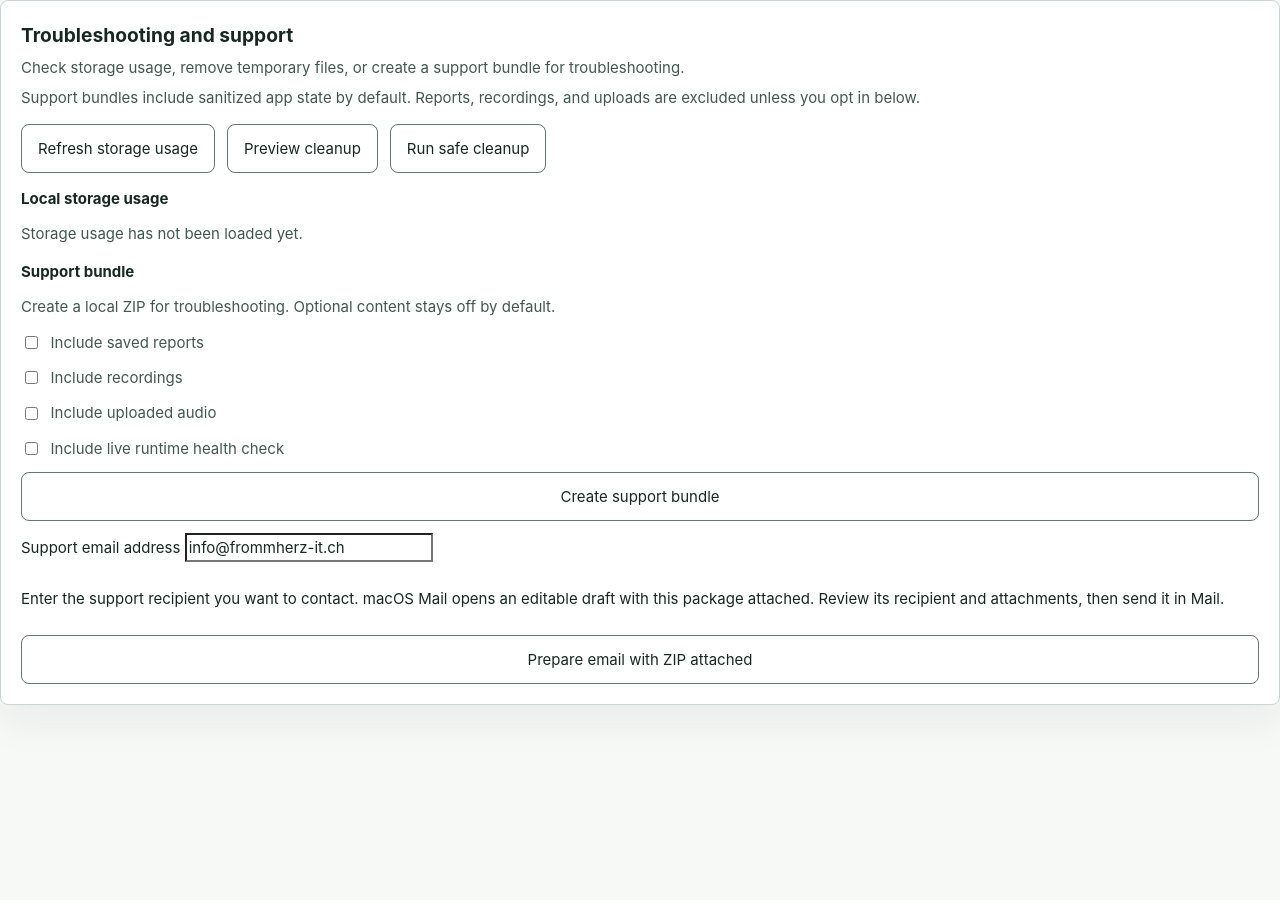
Scenario: uses the native save dialog, preserves a cancelled package, and retries without regenerating
Click the button with test id "settings.support_create_bundle".
click(640, 497)  # box [21,472,1259,521]
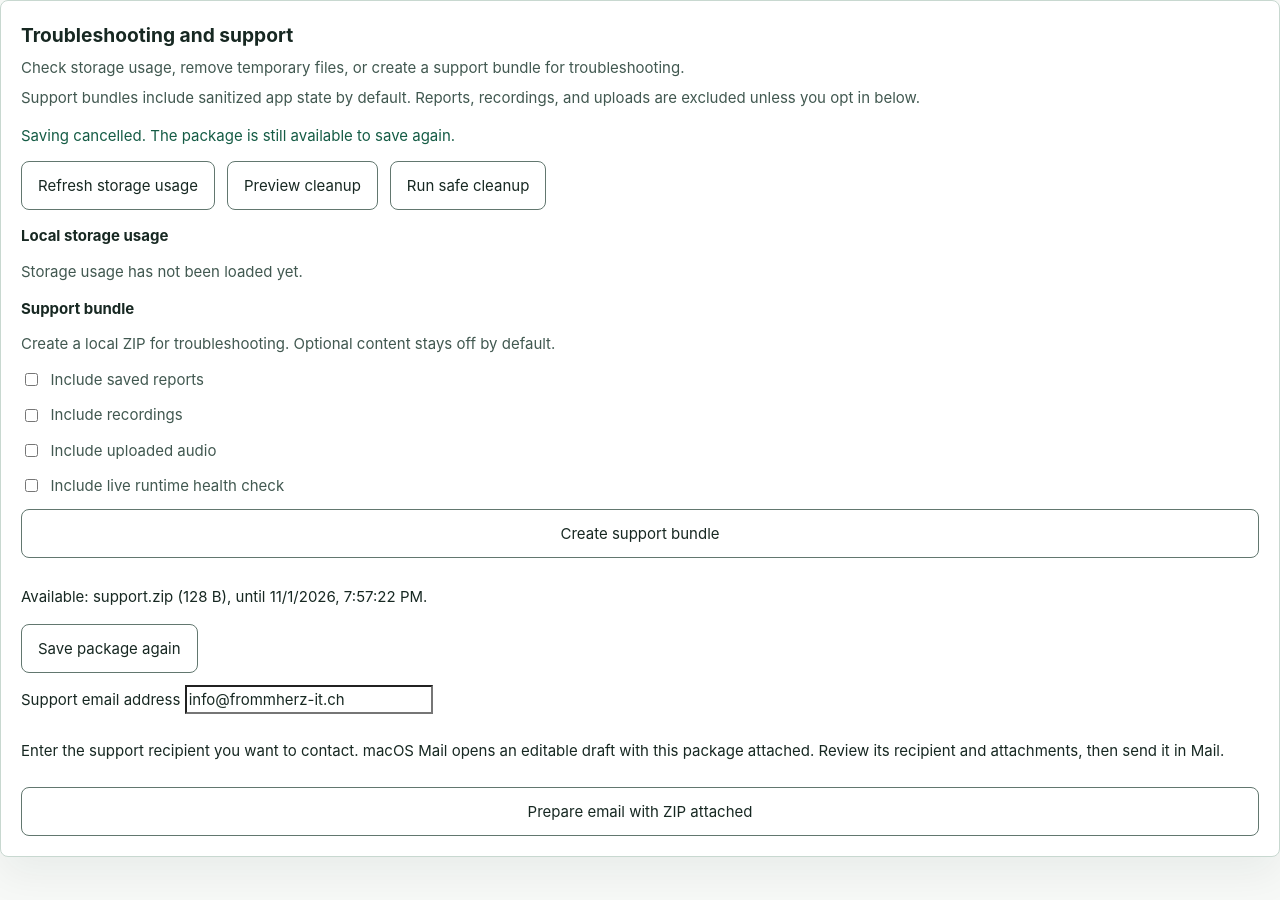
Expected: the text "Saving cancelled. The package is still available to save again." is shown, [21,126,455,145]
Click the button "Save package again".
click(109, 648)  # box [21,624,198,673]
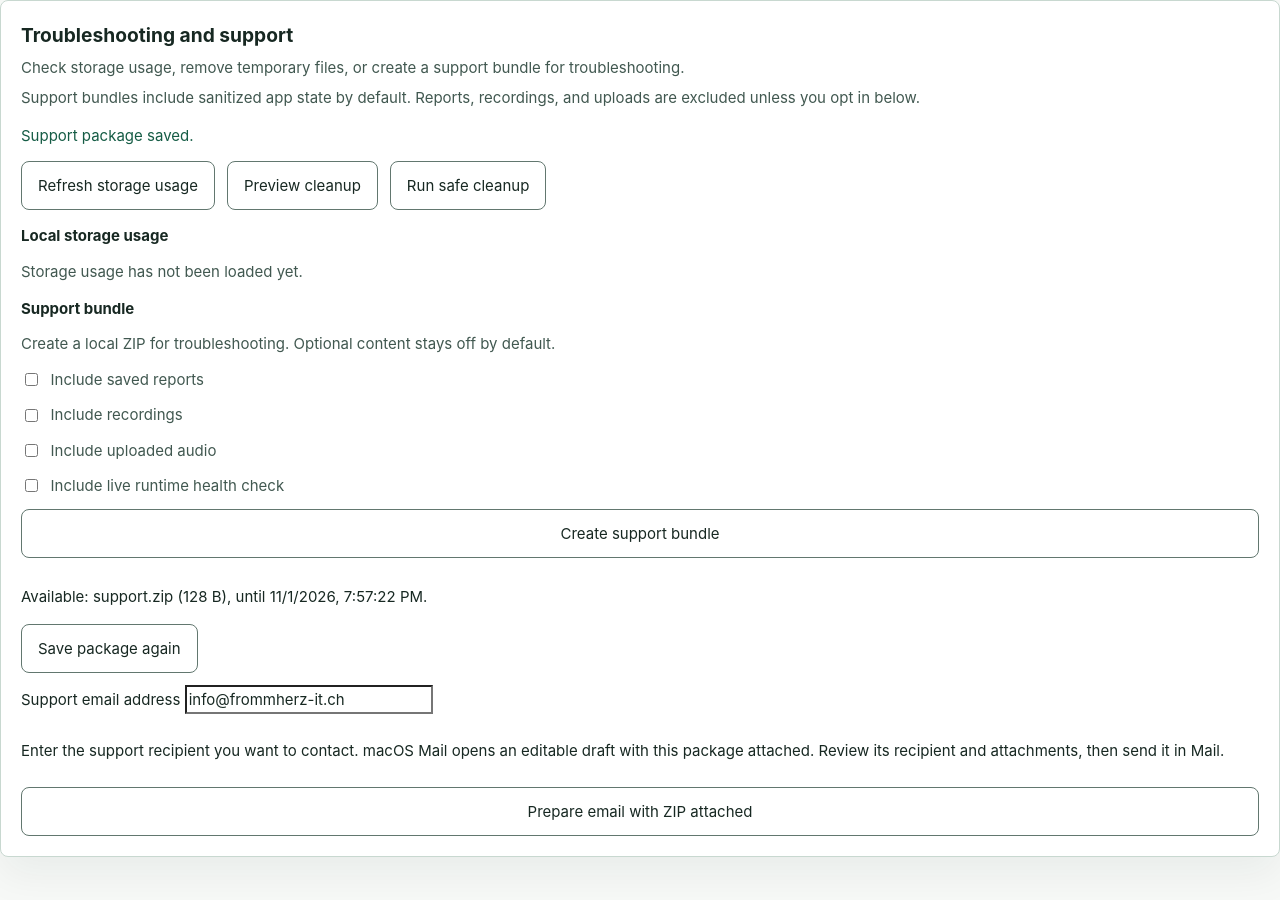
Expected: the text "Support package saved." is shown, [21,126,194,145]
